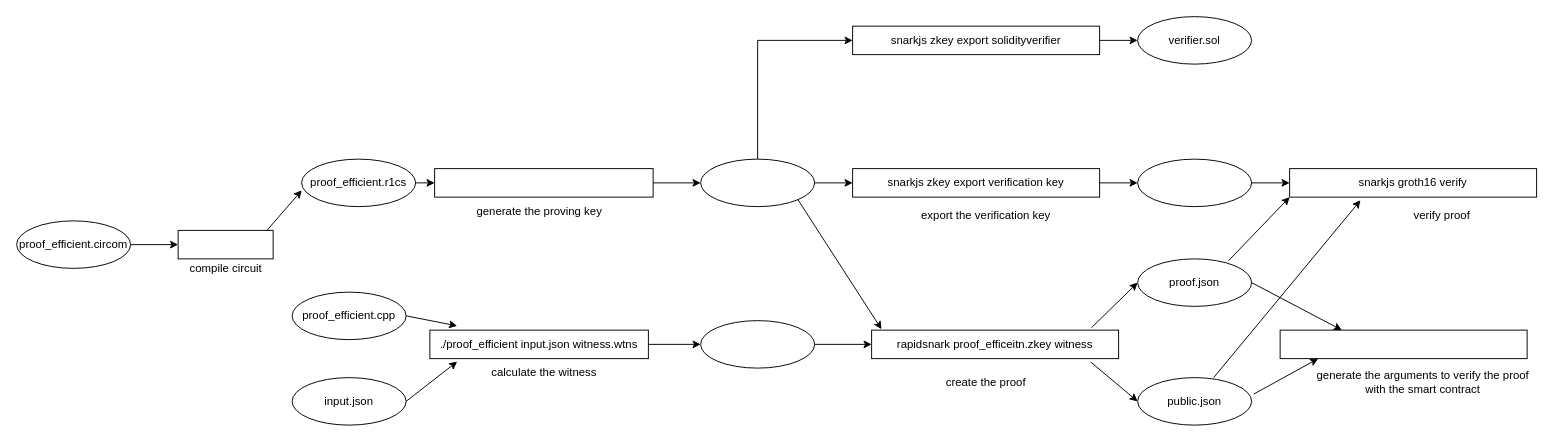
The diagram is 1558 pixels wide and 442 high, and some of its shapes have lost their labels. Here are the shapes that lost their labels. From the top down, the centre of each, then its label:
[543,182]: snarkjs zkey new
[757,182]: proof_efficient.zkey
[1194,182]: vkey.json
[225,244]: circom --r1cs --c
[757,344]: witness.wtns
[1403,344]: snarkjs zkey export solidity calldata
